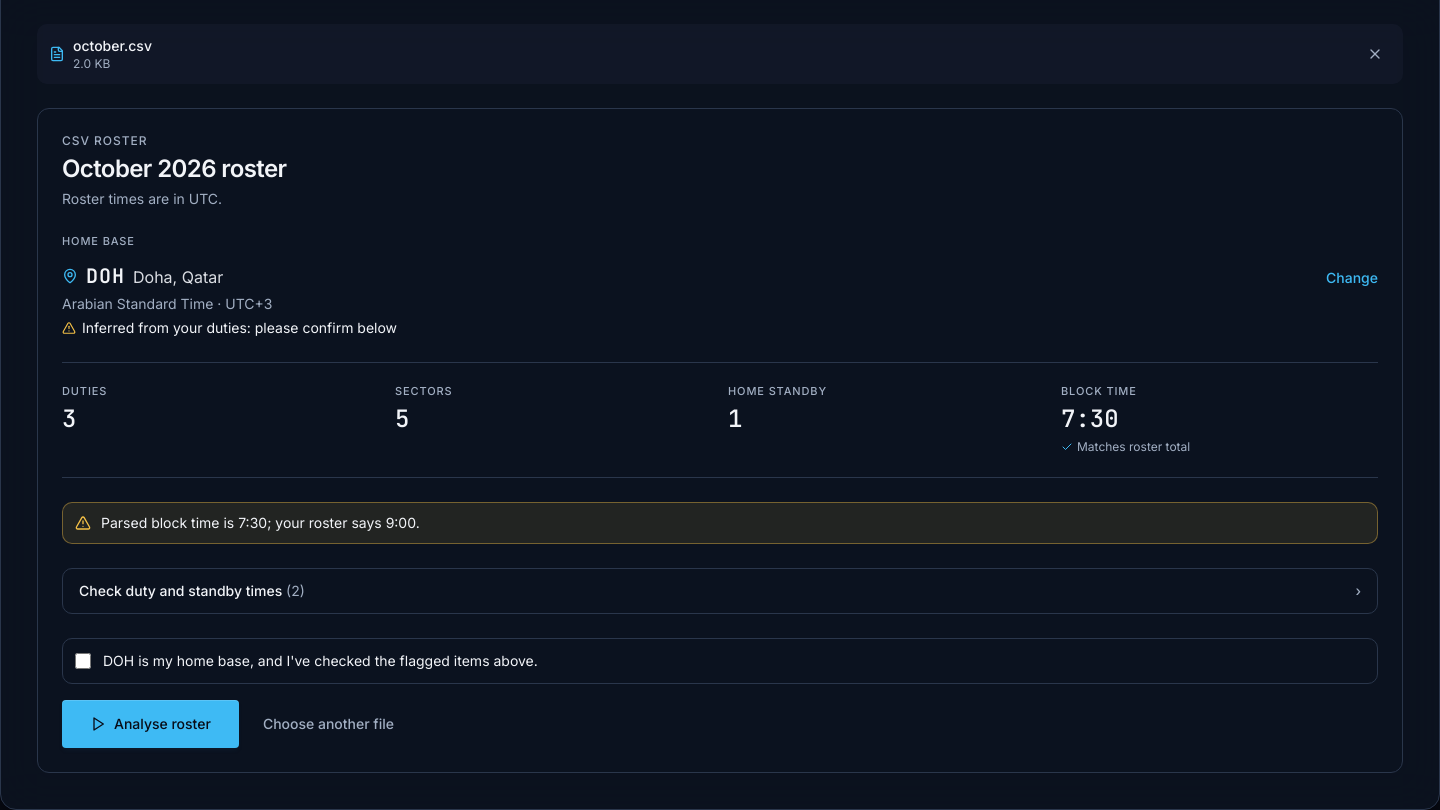
RosterUploadCard › asks for confirmation only when something is flagged
The width and height of the screenshot is (1440, 810).
Earlier steps of the test are not shown.
Later steps or results of the test are not shown.
(page scrolled)
Check: the heading "October 2026 roster" is shown, box [62,154,286,183]
Check: the text "Inferred from your duties: please confirm below" is shown, box [82,318,397,338]
Step 1. Click the button "Analyse roster" → (150, 724), box [62,700,239,748]
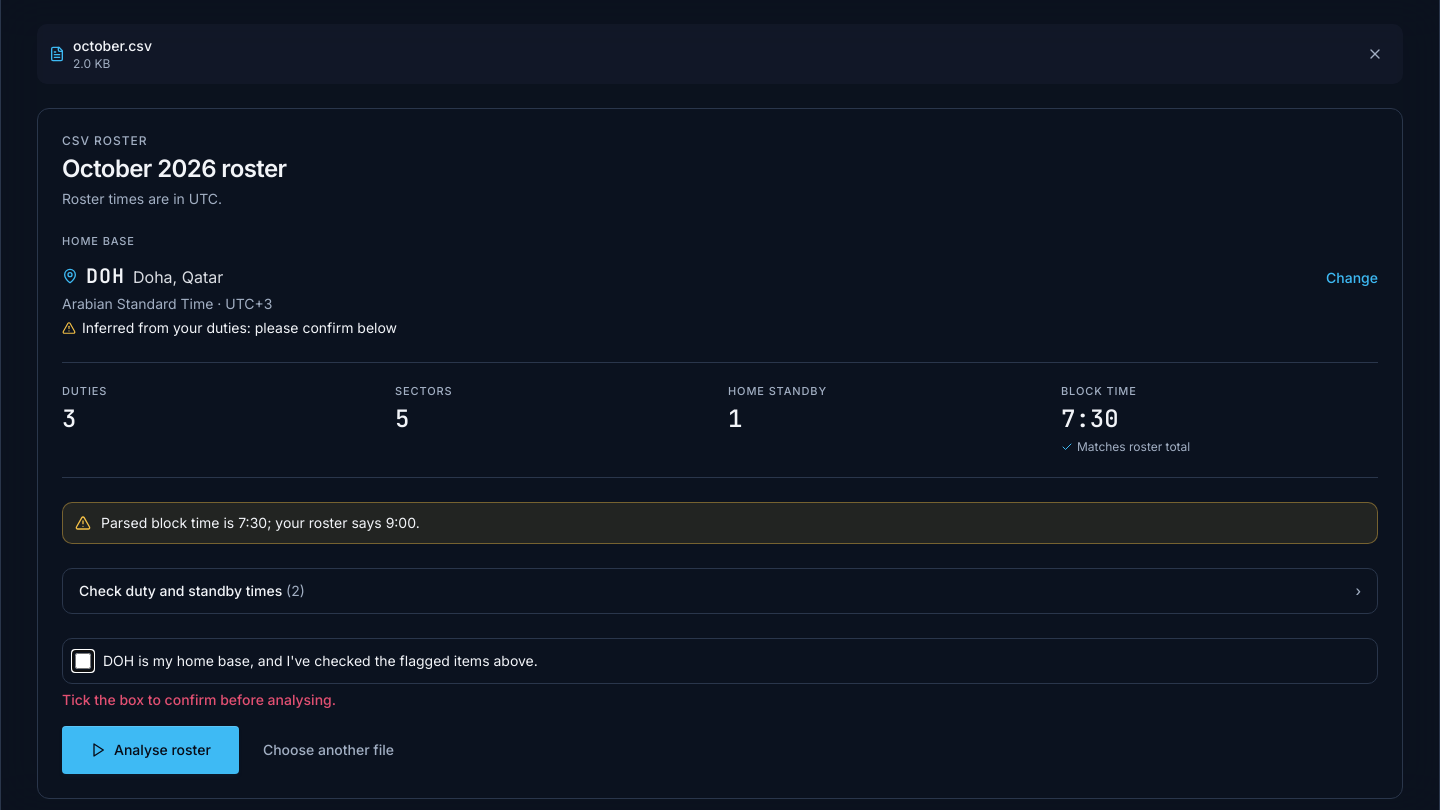
Check: the text "Tick the box to confirm before analysing." is shown, box [62,691,336,708]
